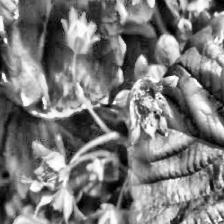Blossom Blight: (127, 78, 168, 132)
